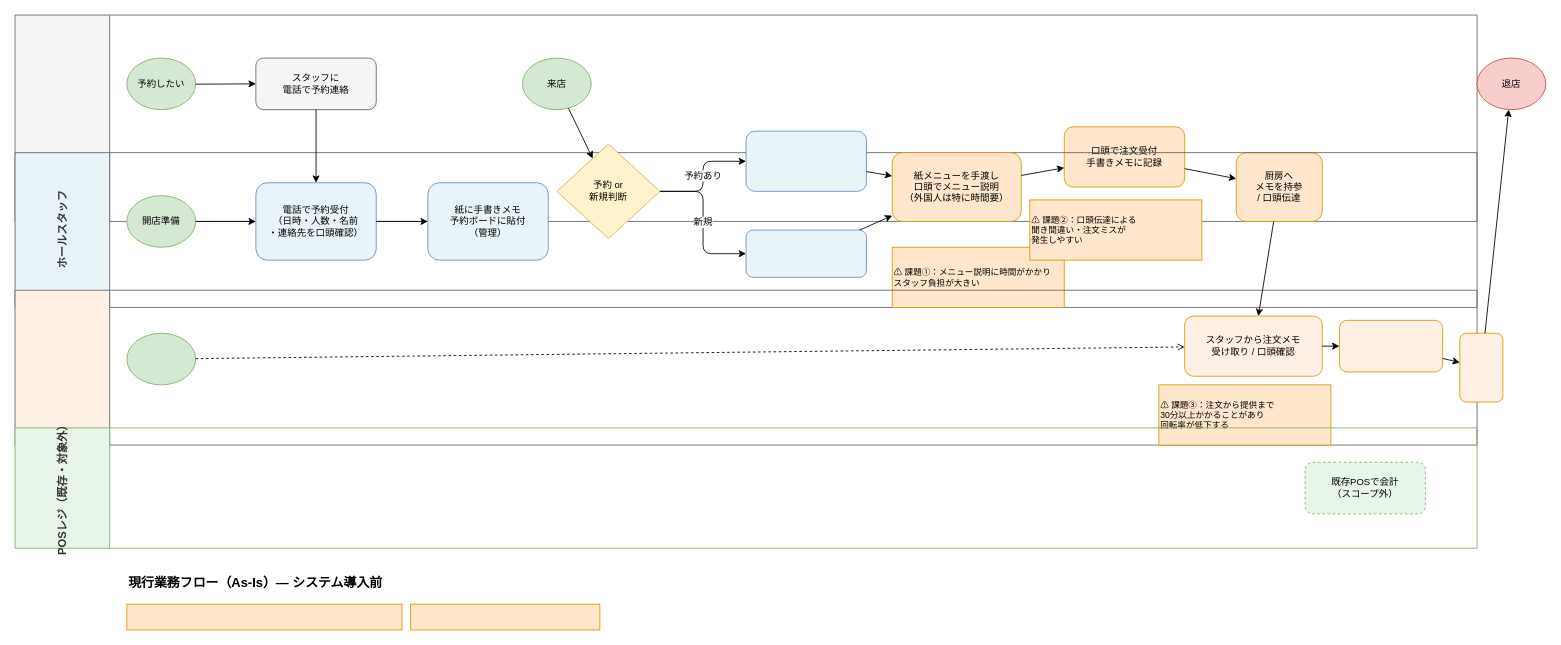
Some shapes in this 1561 by 645 pixel diagram are drawn without their labels. The box of each missing label's shape, as (x1, y1, x2, y2) in pixels:
■ 橙色：手作業・人手依存のタスク（ボトルネック）: (126, 603, 402, 630)
⚠ 課題・ボトルネック箇所: (410, 603, 600, 630)
予約ボード確認 予約席へ案内: (745, 130, 866, 191)
予約者: (14, 14, 1477, 221)
厨房スタッフ: (14, 289, 1477, 445)
完成 →提供: (1459, 332, 1503, 402)
空席を確認 席へ案内: (745, 229, 866, 277)
調理待機: (126, 332, 196, 385)
調理開始: (1339, 319, 1443, 372)
